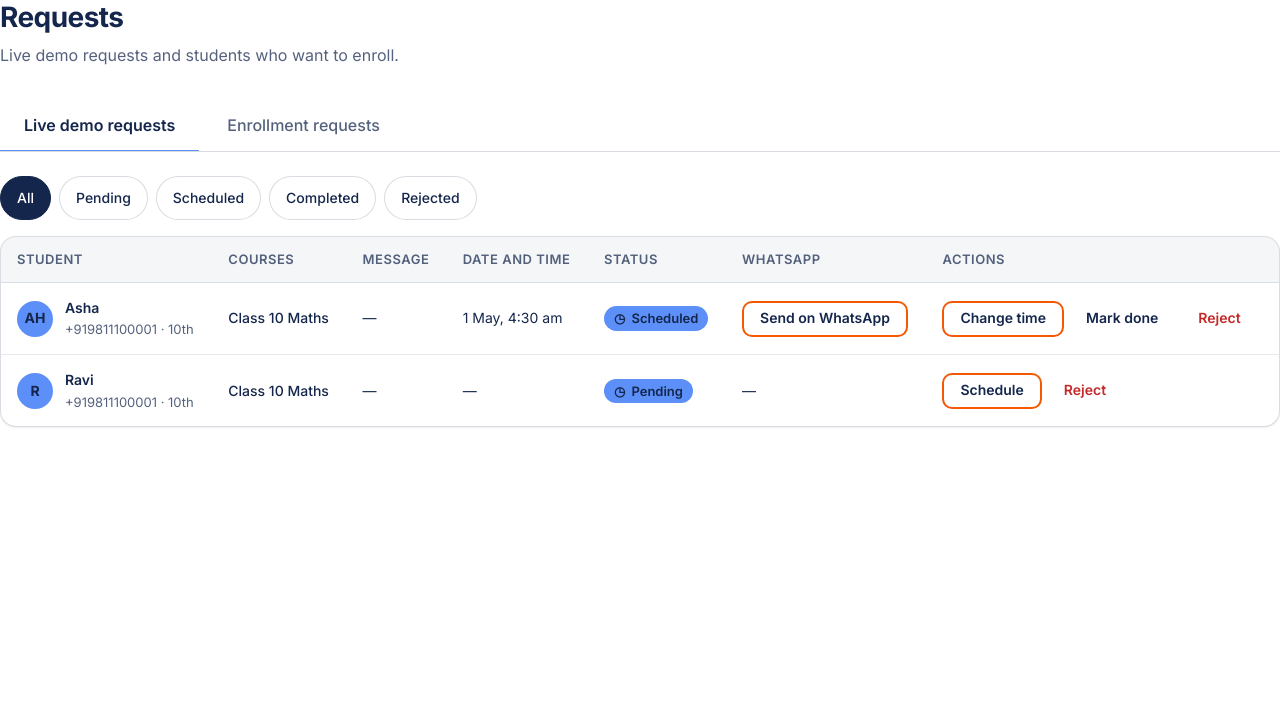
Test case: schedule dialog needs a date and time
Click the button "Schedule".
click(992, 391)  # box [942, 373, 1042, 409]
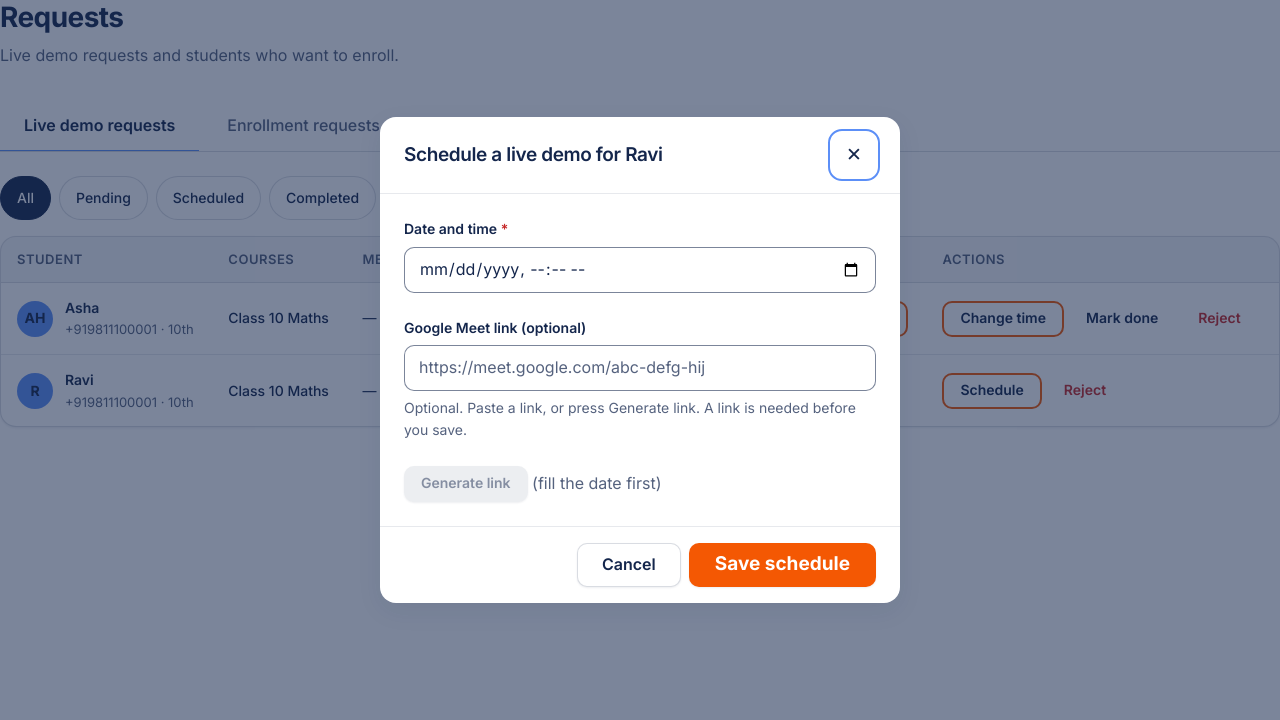
Click the button "Save schedule".
click(782, 565)  # box [689, 543, 876, 587]
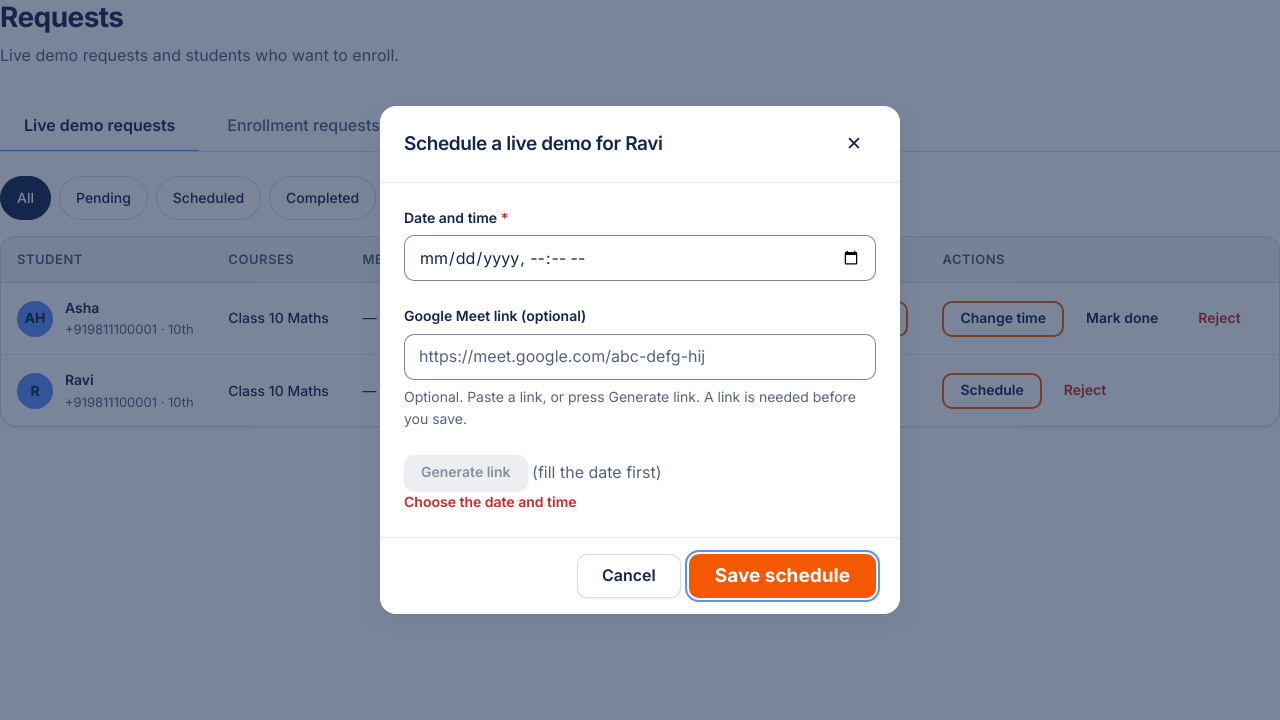
Now the text "Choose the date and time" is shown, box [404, 493, 576, 510]
